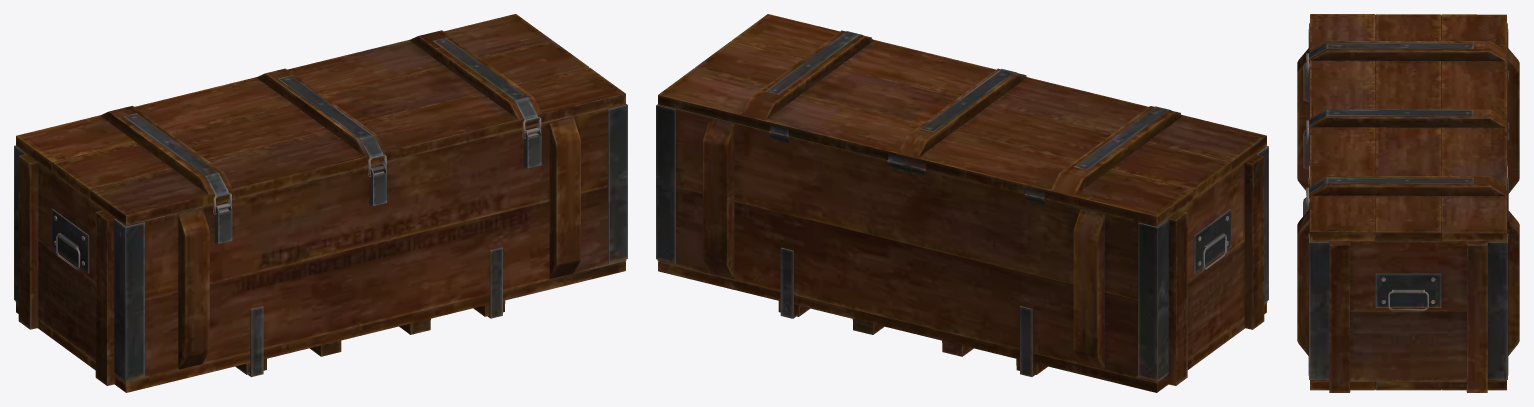
Rendered from wooden_military_crate.glb.
3 views of the same model, side by side, from view 1: azimuth 30°, elevation 25°; view 2: azimuth 150°, elevation 25°; view 3: azimuth 270°, elevation 25° (orthographic). The views are drawn at different scales.
Parts seen in each view (by area): view 1: wooden_military_crate, wooden_military_crate_lid; view 2: wooden_military_crate, wooden_military_crate_lid; view 3: wooden_military_crate_lid, wooden_military_crate, wooden_military_crate_latch.
Boxes of the visible parts, x1,y1,x2,y2 form: wooden_military_crate: [14, 103, 627, 392]; wooden_military_crate_lid: [16, 14, 625, 225]; wooden_military_crate: [656, 104, 1268, 392]; wooden_military_crate_lid: [658, 14, 1266, 225]; wooden_military_crate_lid: [1306, 14, 1509, 240]; wooden_military_crate: [1297, 23, 1519, 392]; wooden_military_crate_latch: [1306, 53, 1308, 210].
Size of the model in its own units: 1.24 by 0.4645 by 0.5184.
Materials: 1 (1 with a texture image).
